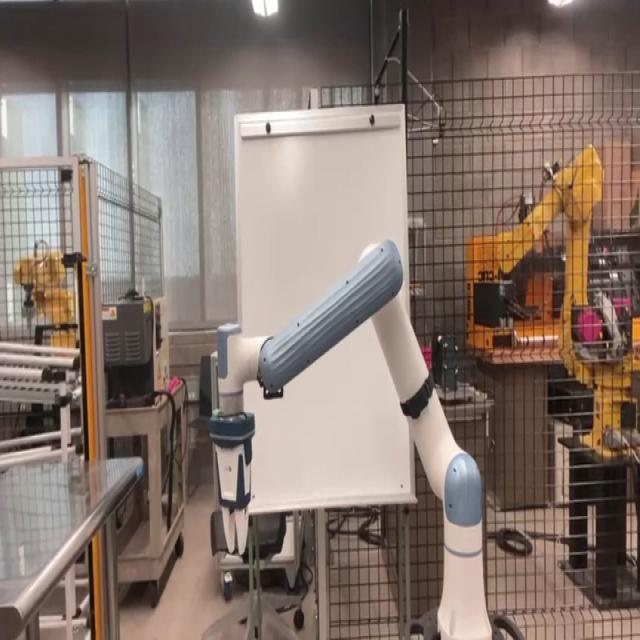robot: (205, 236, 523, 639)
